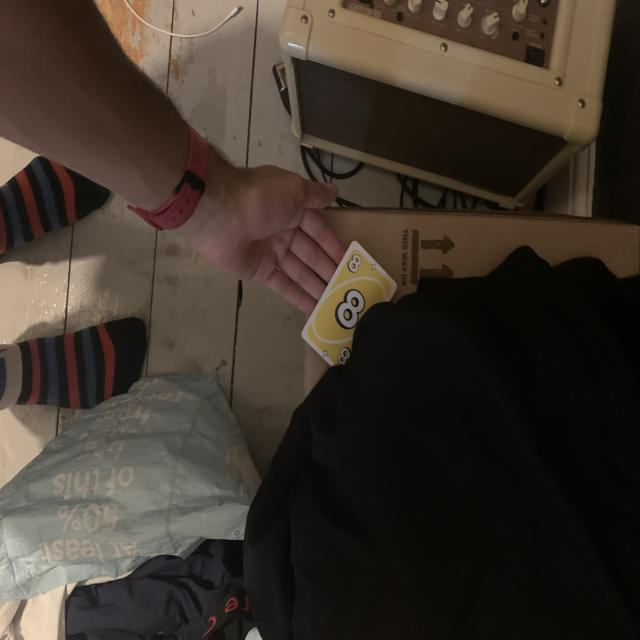lyellow-8: (344, 246, 366, 280)
